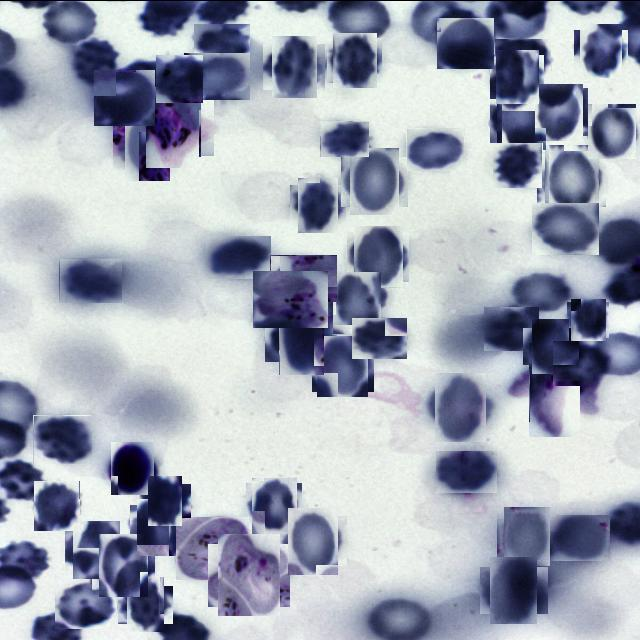leukocyte: (108, 444, 156, 492)
red blood cell: (540, 148, 602, 210), (430, 376, 490, 436), (532, 202, 599, 255), (93, 68, 155, 125), (272, 309, 331, 368), (284, 510, 342, 570), (346, 152, 404, 210), (118, 118, 176, 174), (494, 89, 550, 146), (486, 561, 542, 618), (314, 338, 372, 393), (270, 254, 337, 301), (68, 524, 124, 580), (330, 274, 386, 330), (96, 537, 152, 593), (184, 52, 250, 99), (55, 578, 117, 628), (351, 228, 406, 284), (436, 16, 494, 68), (267, 39, 321, 93), (532, 84, 586, 138), (33, 414, 92, 463), (205, 235, 271, 278), (59, 257, 122, 302), (510, 270, 574, 314), (500, 509, 553, 562), (550, 514, 610, 560), (586, 105, 638, 156), (133, 501, 184, 552), (248, 480, 300, 530), (436, 450, 497, 492), (406, 127, 465, 170), (553, 340, 609, 385), (330, 34, 380, 84), (495, 38, 551, 82), (492, 51, 542, 100), (484, 306, 539, 350), (34, 480, 82, 530), (351, 316, 407, 358), (72, 37, 121, 85), (294, 180, 342, 228), (577, 26, 625, 74), (122, 580, 169, 628), (156, 54, 203, 102), (494, 142, 544, 187), (194, 23, 250, 61), (528, 322, 574, 368), (144, 478, 187, 522), (320, 120, 369, 156), (568, 300, 608, 338)
trophozoite: (518, 352, 591, 425), (213, 538, 285, 610), (140, 92, 208, 162), (176, 516, 249, 579), (253, 270, 328, 327)
